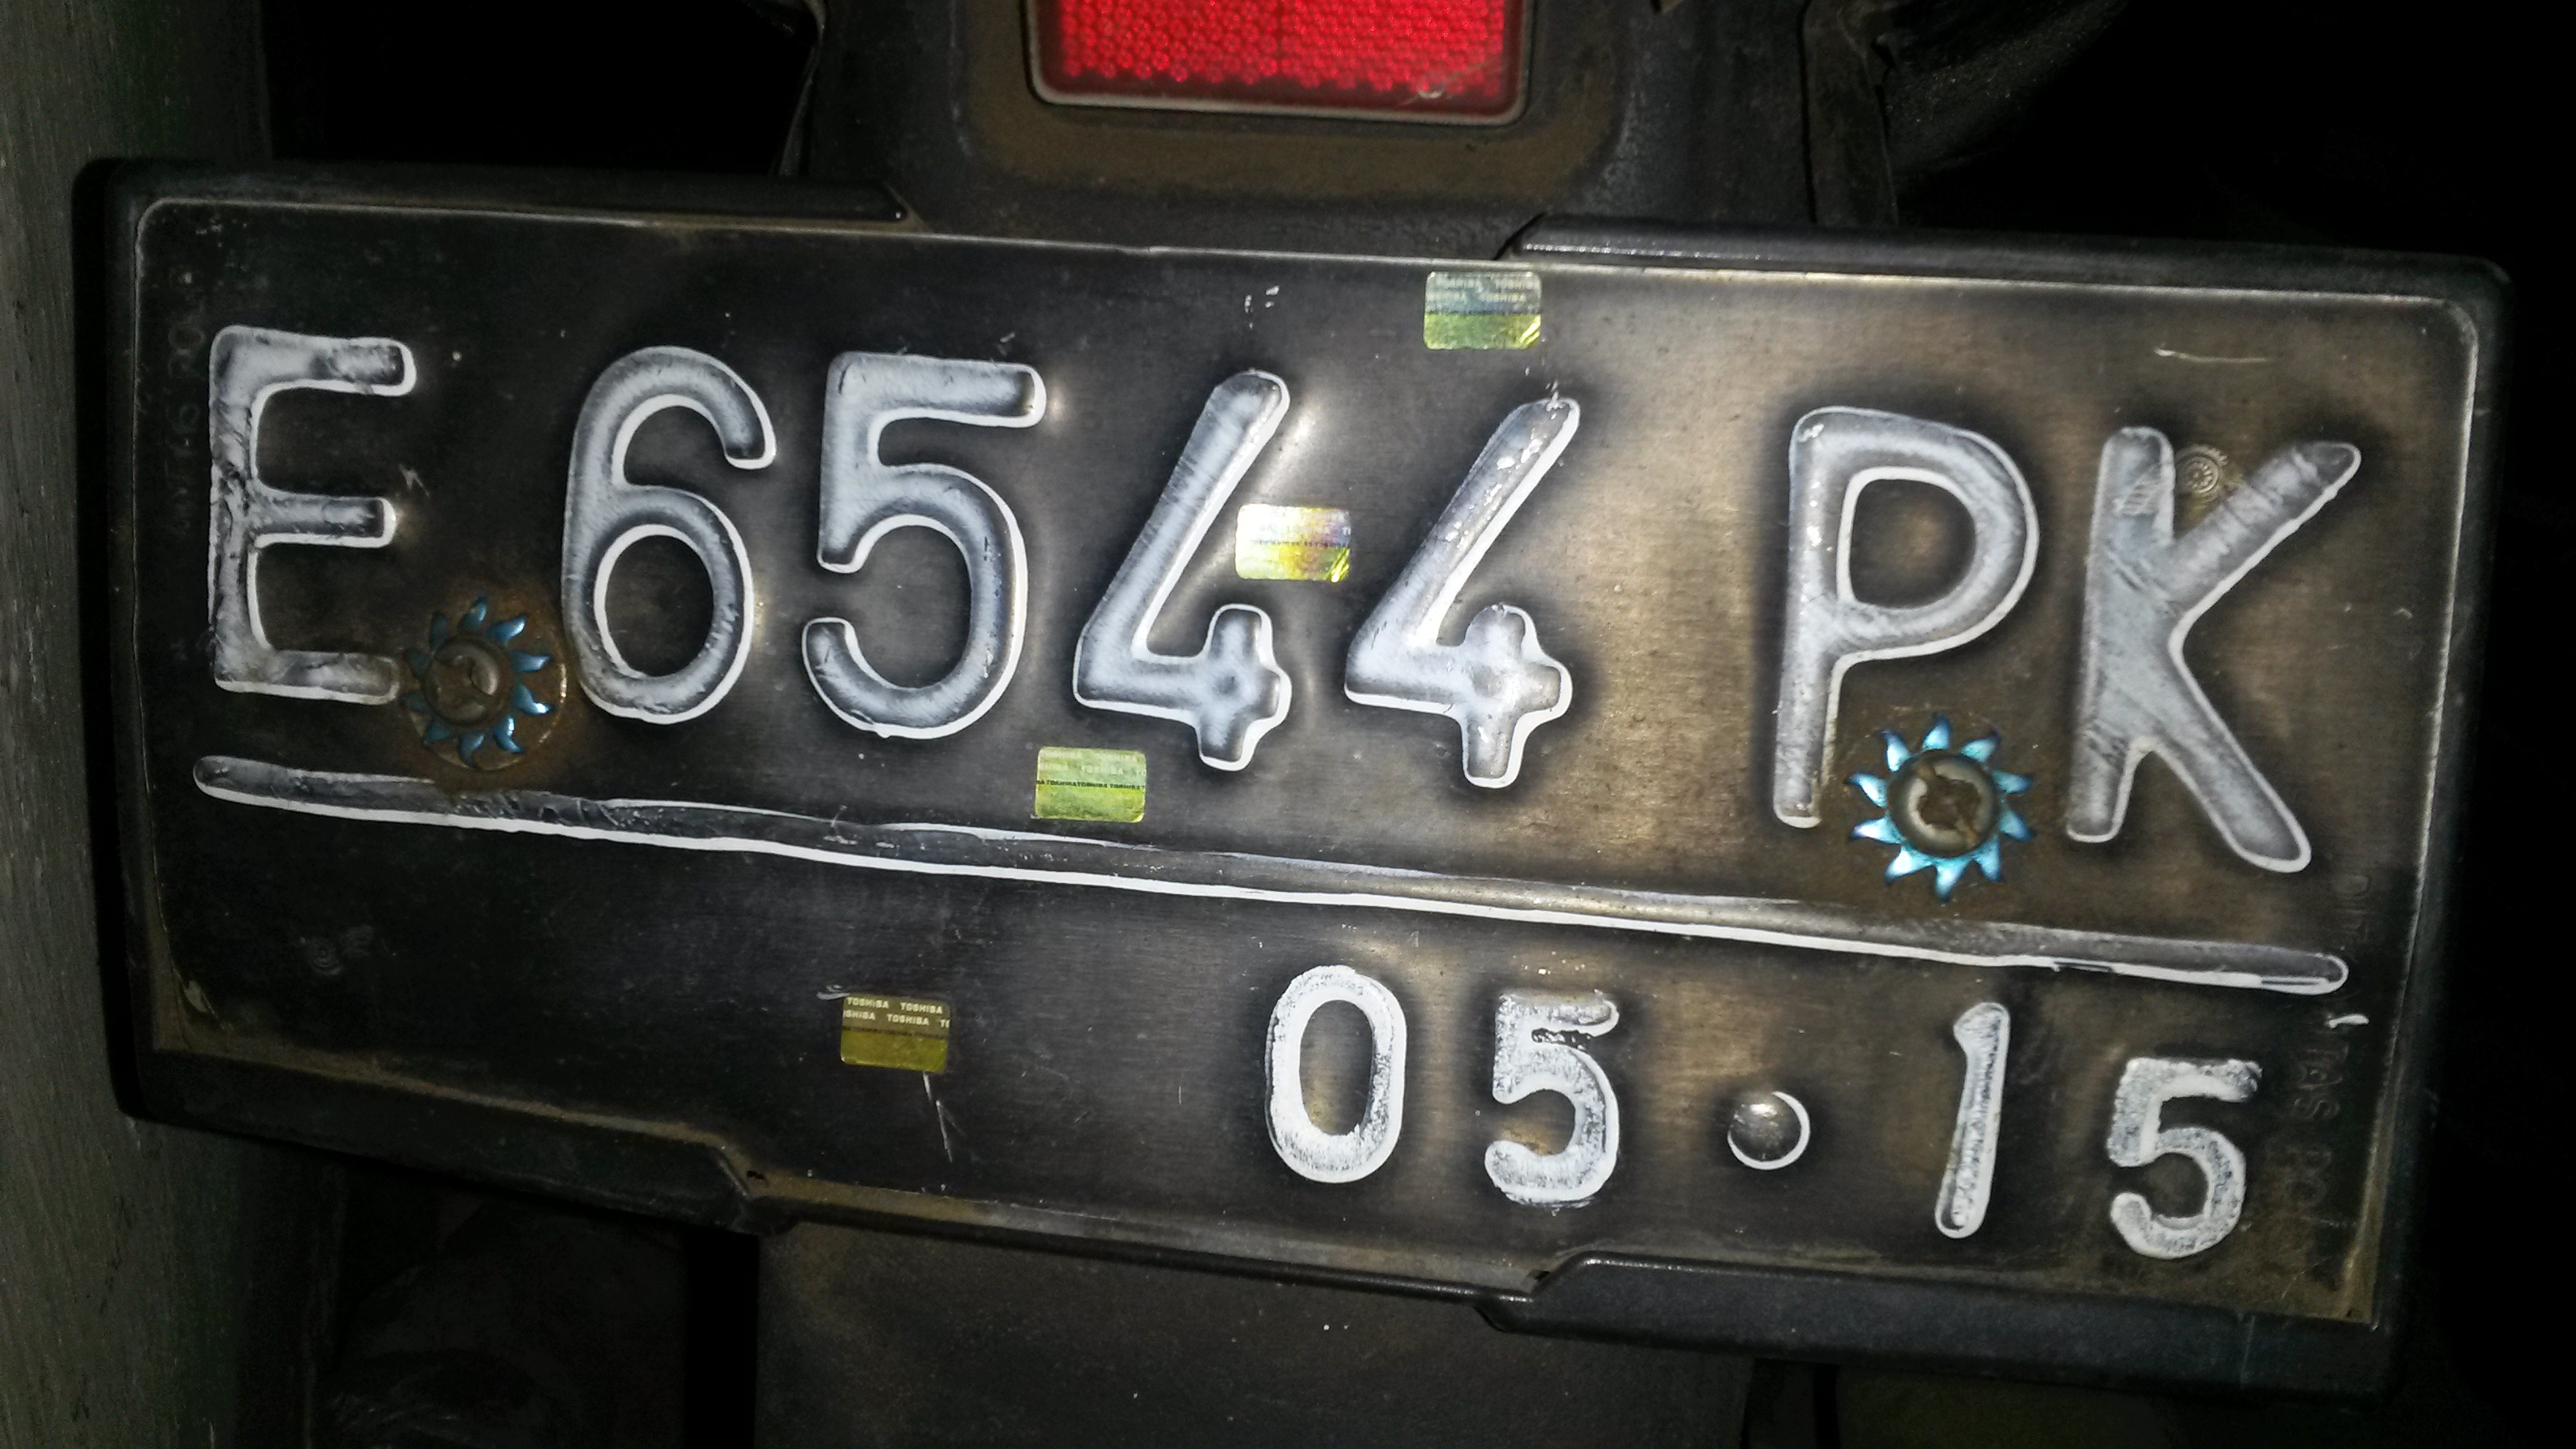plate: (93, 171, 2471, 1350)
